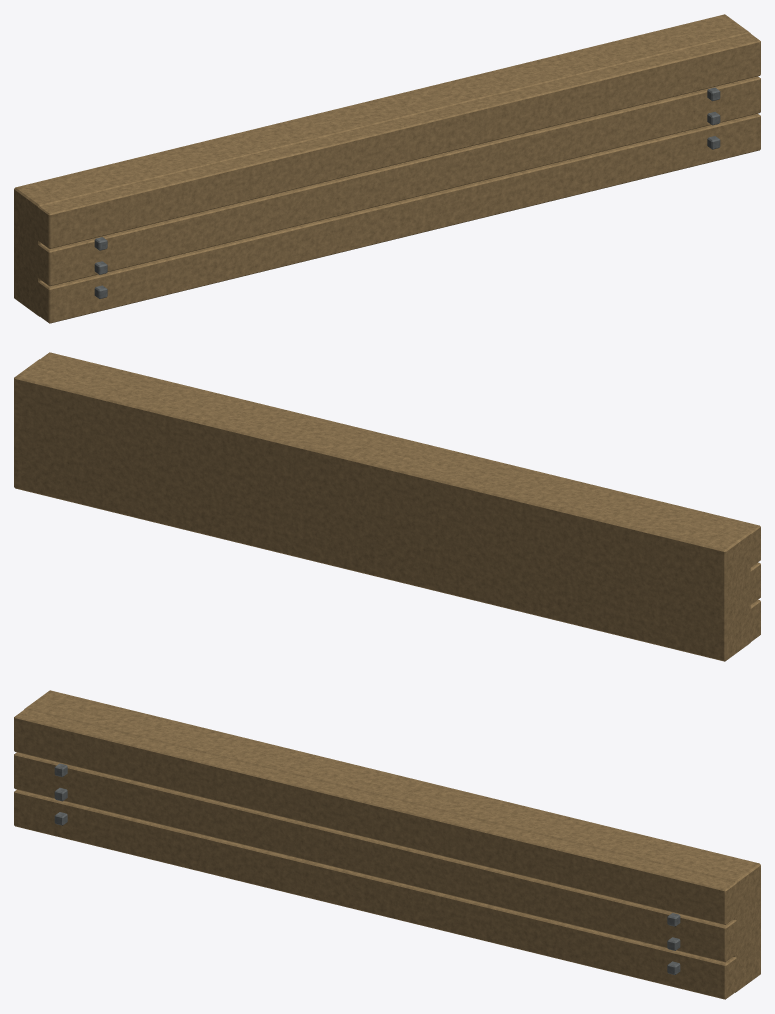
Rendered from TOP_lod0.glb.
The picture shows the model from 3 angles, top to bottom: view 1: azimuth 30°, elevation 25°; view 2: azimuth 150°, elevation 25°; view 3: azimuth 330°, elevation 25°; orthographic projection.
Parts seen in each view (by area): view 1: TOP_LOD0; view 2: TOP_LOD0; view 3: TOP_LOD0.
Part boxes in pixels (<box>): TOP_LOD0: <box>14,14,760,323</box>; TOP_LOD0: <box>14,352,760,661</box>; TOP_LOD0: <box>14,690,760,999</box>.
Size of the model in its own units: 4 by 0.6 by 0.395.
4 materials, 4 textured.
